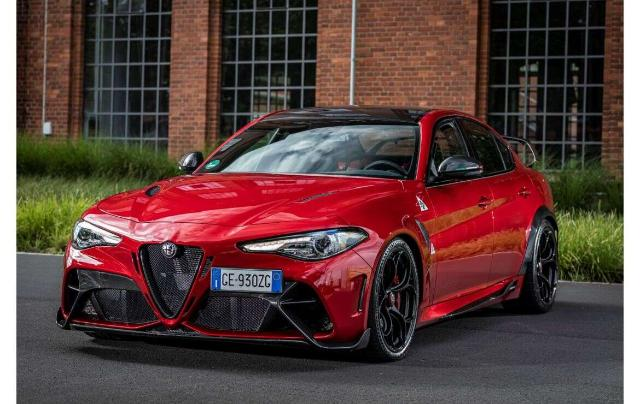alpha-romeo: (54, 106, 560, 362)
